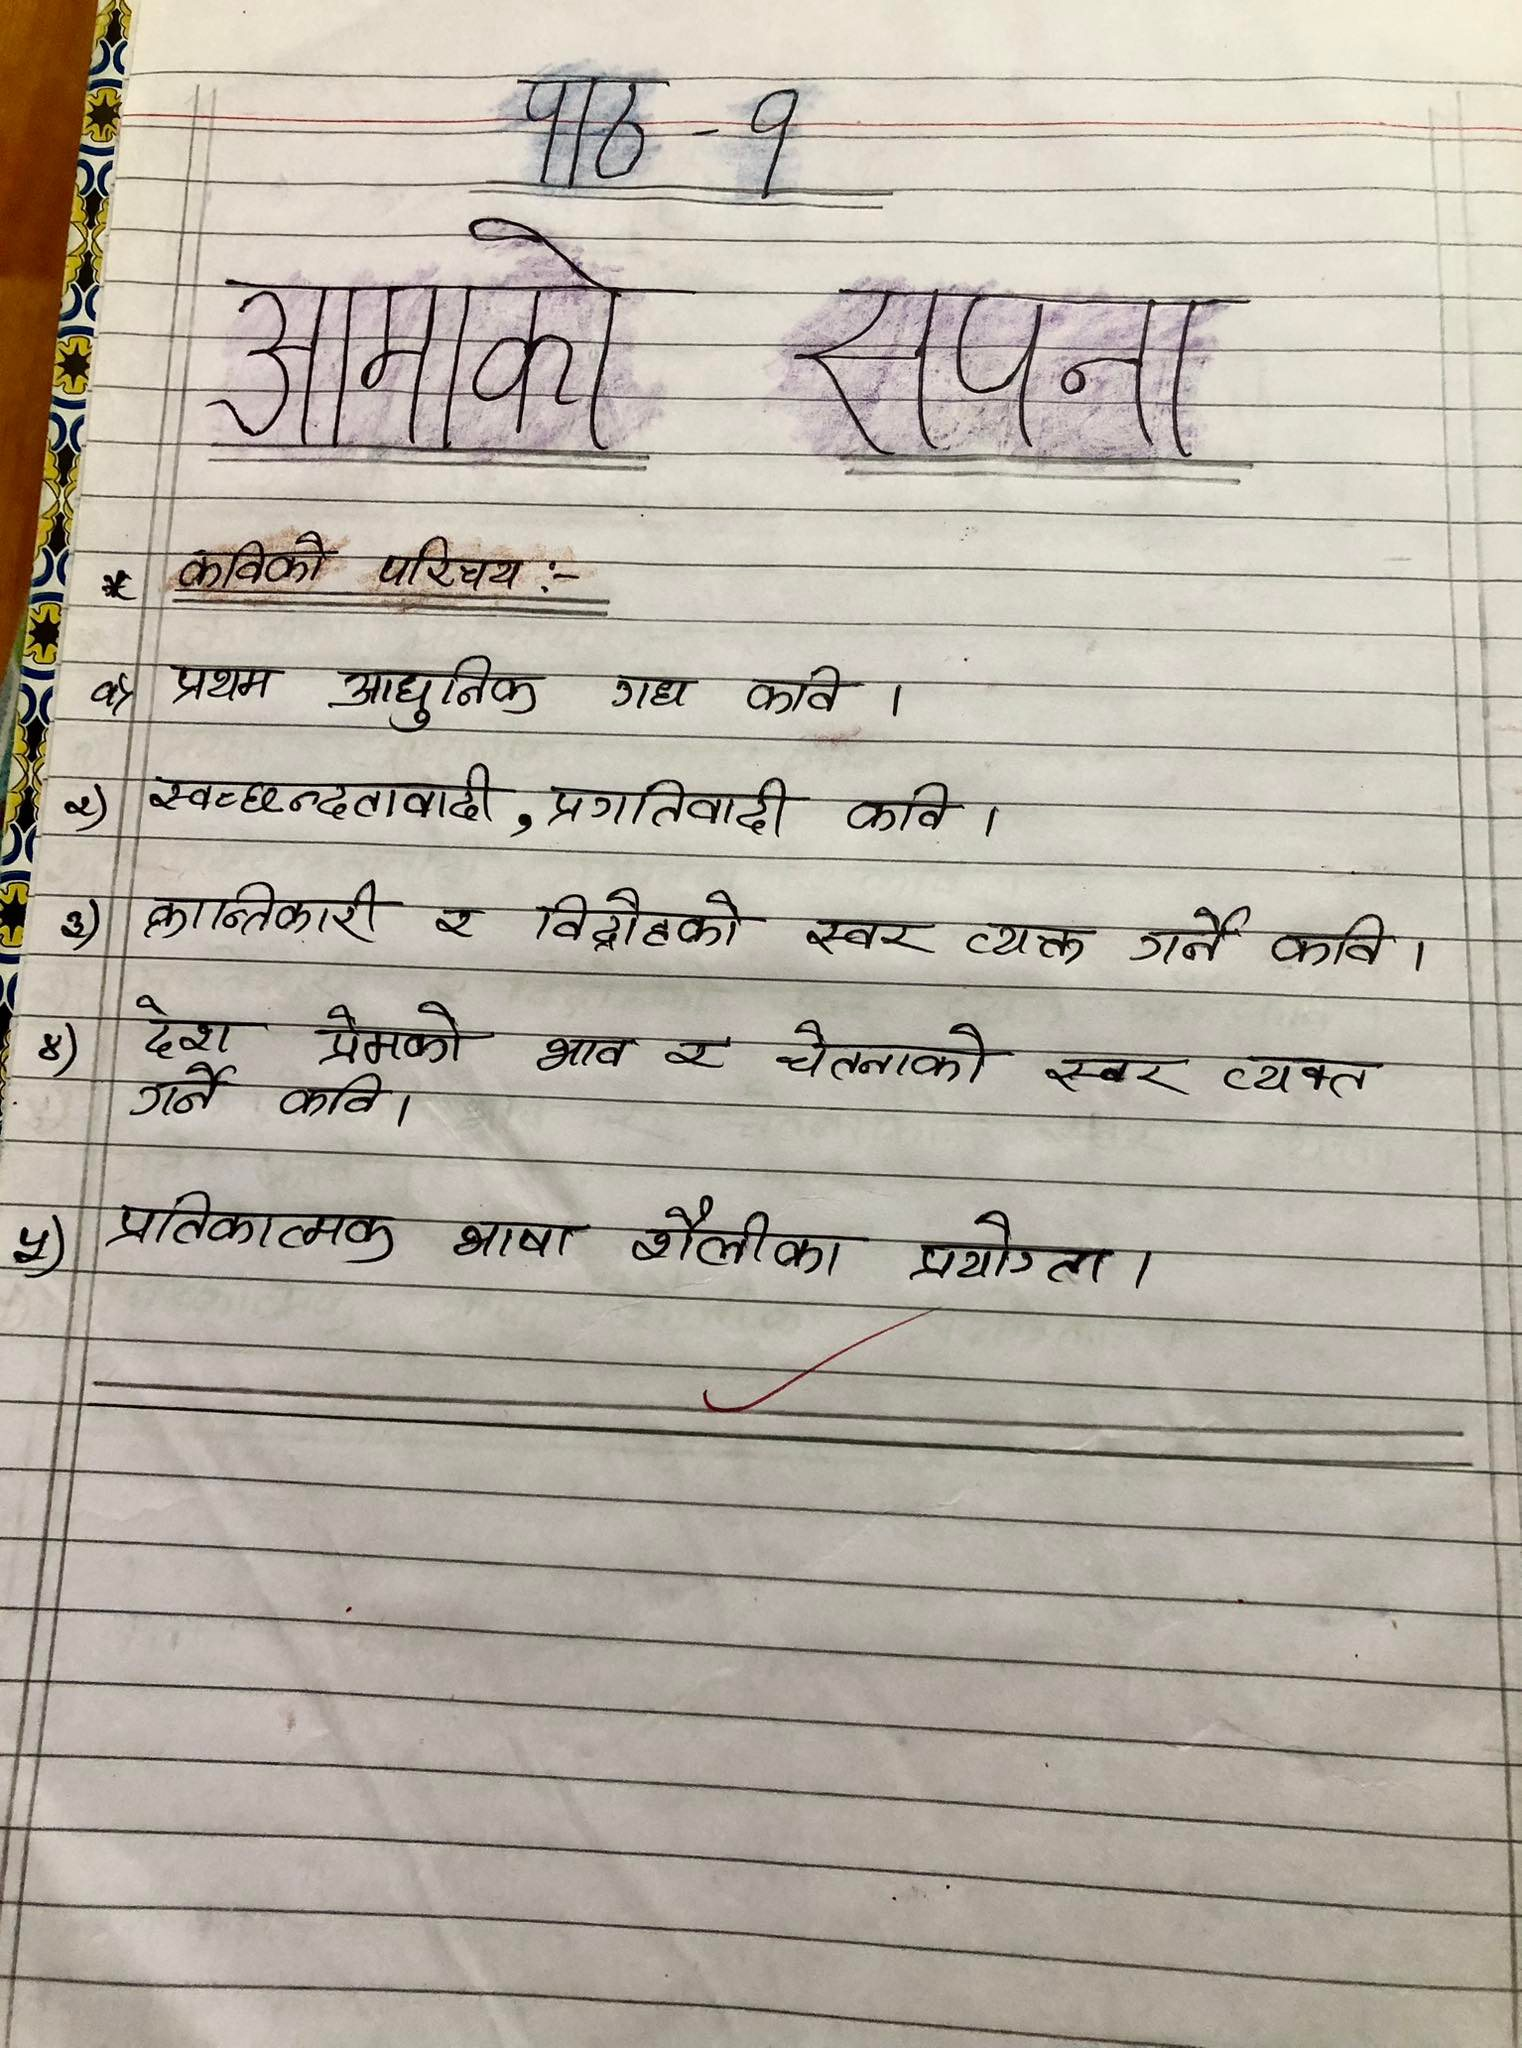text: (214, 217, 624, 449), (798, 273, 1229, 457), (145, 756, 497, 828), (106, 1185, 400, 1268), (627, 1197, 847, 1284), (905, 1209, 1116, 1292), (141, 878, 384, 950), (329, 649, 540, 731), (507, 72, 663, 181), (771, 1015, 993, 1087), (539, 775, 795, 838), (536, 887, 747, 951), (312, 999, 468, 1068), (374, 536, 524, 595), (176, 534, 339, 588), (1126, 903, 1253, 970), (1042, 1047, 1185, 1105), (1269, 910, 1396, 970), (1217, 1050, 1373, 1098), (133, 991, 241, 1060), (742, 78, 806, 193), (801, 913, 942, 962), (961, 918, 1090, 970), (448, 1218, 587, 1266), (844, 779, 961, 835), (740, 662, 851, 719), (131, 1065, 230, 1122), (272, 1073, 385, 1122), (169, 660, 280, 707), (532, 1028, 633, 1074), (603, 675, 691, 716), (663, 1034, 732, 1078), (427, 900, 486, 946), (13, 1221, 50, 1273), (26, 1026, 69, 1070), (86, 671, 125, 713), (56, 787, 98, 823), (56, 903, 93, 943)
